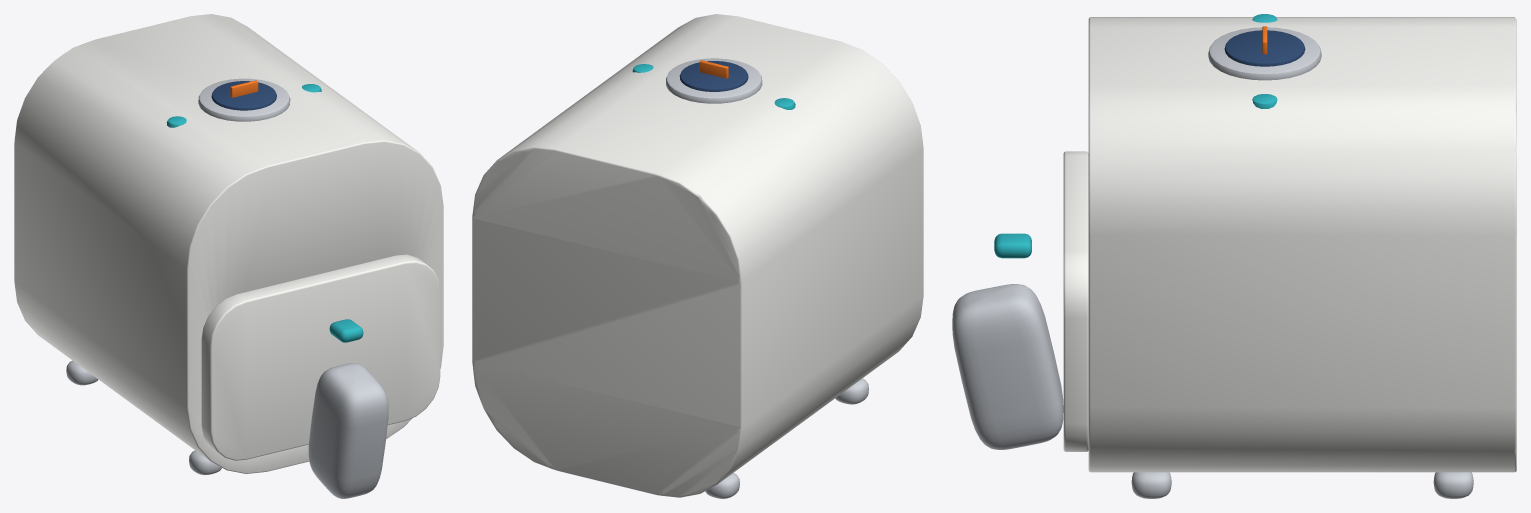
The model's file is air_fryer_branca.glb.
The picture shows the model from 3 angles, left to right: view 1: azimuth 30°, elevation 25°; view 2: azimuth 150°, elevation 25°; view 3: azimuth 270°, elevation 25°; orthographic projection. The views are drawn at different scales.
Visible parts, largest first — view 1: air_fryer_branca, cesto; view 2: air_fryer_branca; view 3: air_fryer_branca, cesto.
Part boxes in pixels (x1=…): air_fryer_branca: x1=14, y1=14, x2=443, y2=475; cesto: x1=201, y1=254, x2=440, y2=498; air_fryer_branca: x1=472, y1=14, x2=923, y2=498; air_fryer_branca: x1=1088, y1=14, x2=1516, y2=498; cesto: x1=952, y1=151, x2=1088, y2=451.
Bounding box in the file's own units: 0.29 × 0.36 × 0.4484.
1 material, 1 textured.
